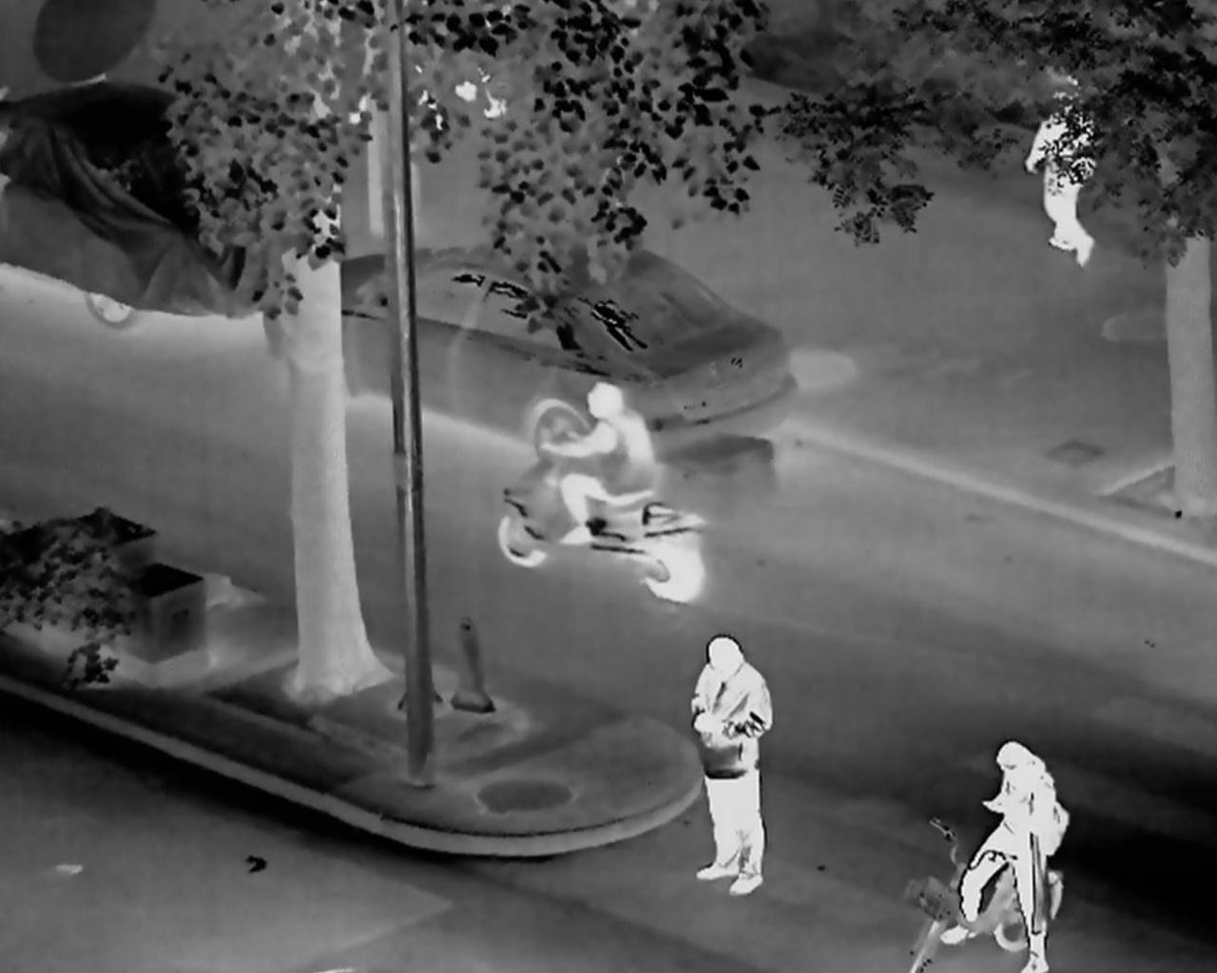person: (940, 744, 1066, 973), (689, 637, 769, 900), (540, 383, 655, 550), (1025, 70, 1097, 261), (448, 60, 505, 124)
